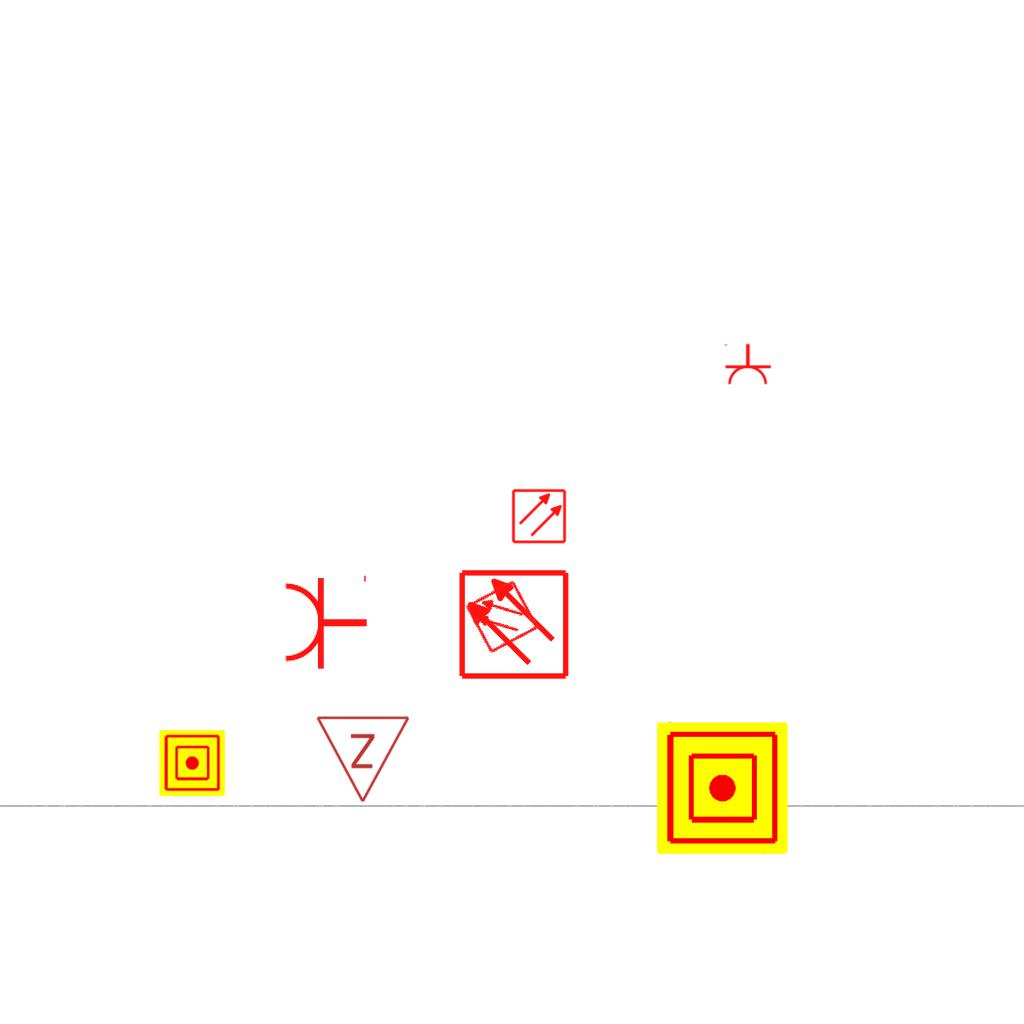NAM-Nichtautomatischer_Melder: (656, 722, 788, 854), (159, 730, 225, 796)
RMO_Rauchmelder_optischer: (457, 568, 570, 681), (464, 579, 540, 655), (511, 488, 567, 544)
Schukosteckdose_einfach: (282, 571, 369, 671), (722, 343, 772, 386)
Zimmersignalleuchte: (315, 709, 413, 809)
